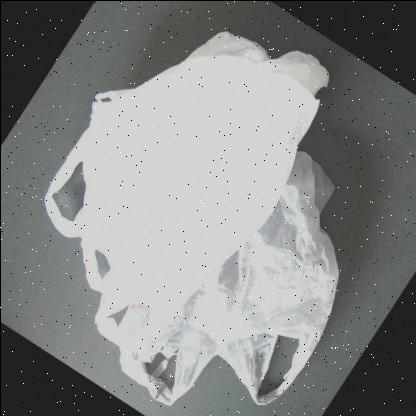Others: (41, 30, 328, 352), (117, 162, 340, 406)
